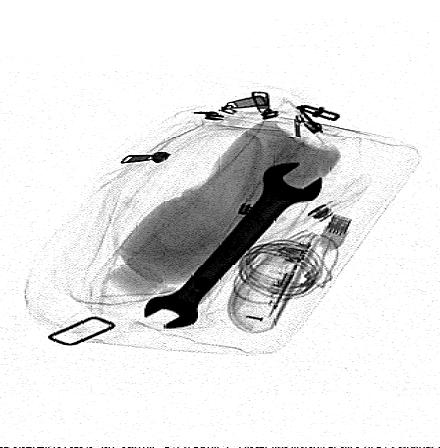Wrench: (141, 161, 325, 333)
